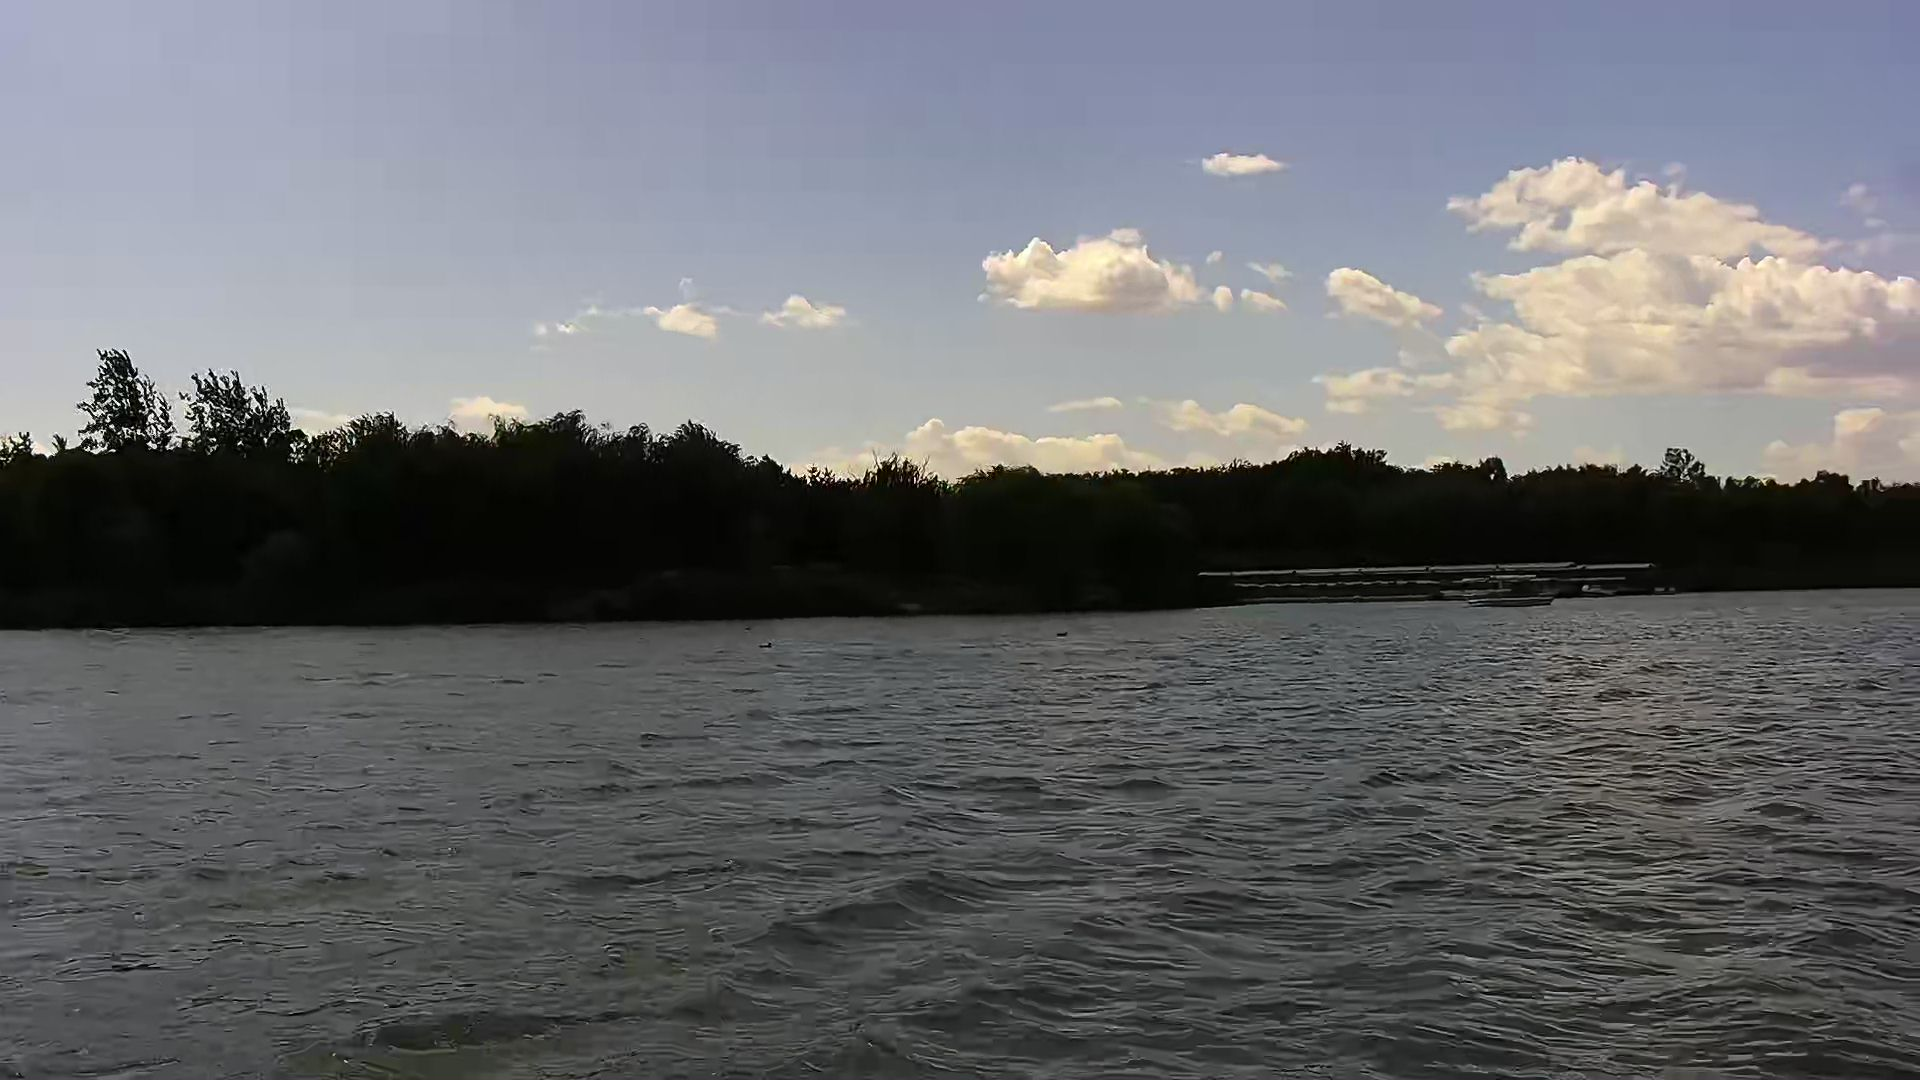boat: (1464, 572, 1564, 611)
harbor: (1197, 559, 1672, 601)
